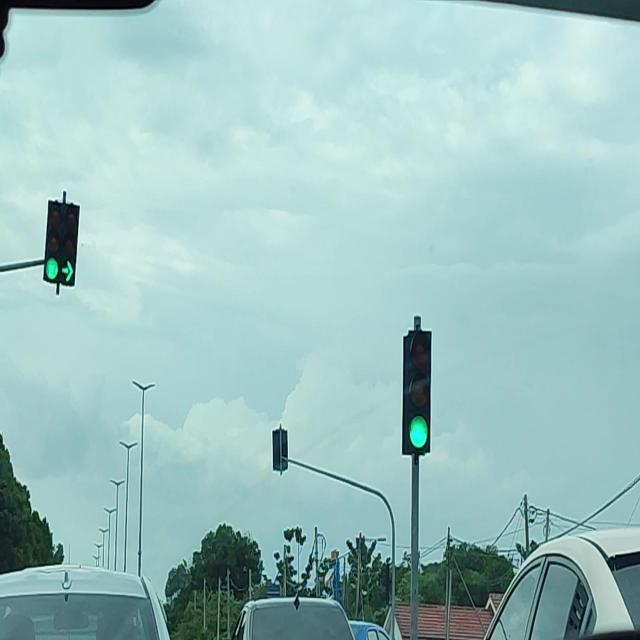green_light: (404, 328, 432, 454), (60, 202, 80, 286), (42, 200, 62, 282)
